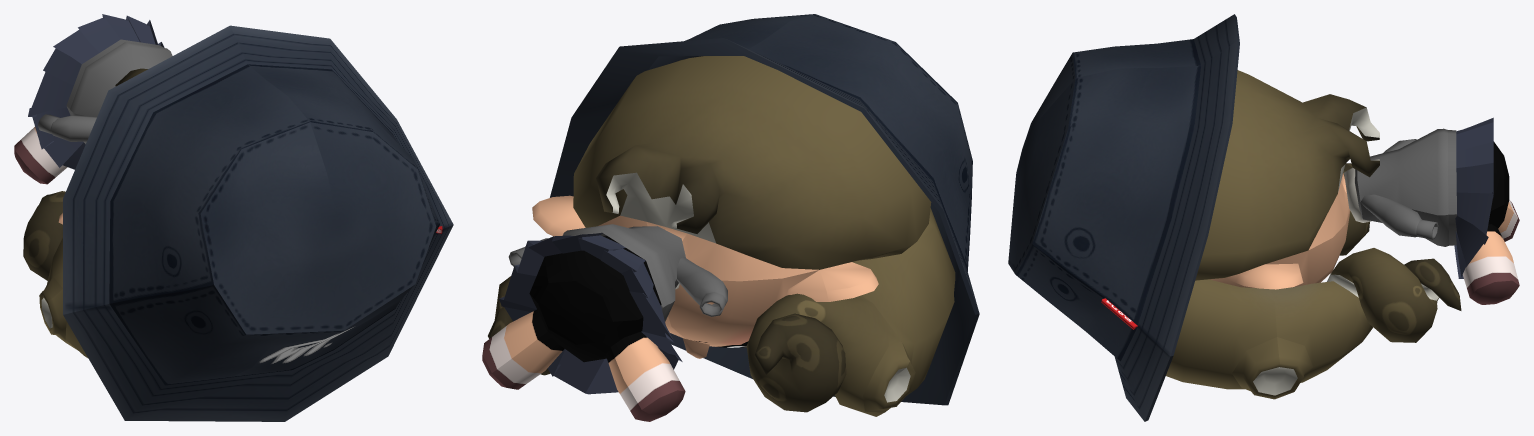
The model's file is lana.fbx.
3 views of the same model, side by side, from view 1: azimuth 30°, elevation 25°; view 2: azimuth 150°, elevation 25°; view 3: azimuth 270°, elevation 25° (orthographic). The views are drawn at different scales.
Visible parts, largest first — view 1: lana; view 2: lana; view 3: lana.
Part boxes in pixels (left/top/right/bottom): lana: left=14, top=14, right=453, bottom=421; lana: left=482, top=14, right=979, bottom=421; lana: left=1008, top=14, right=1519, bottom=421.
Bounding box in the file's own units: 1.09 × 0.9544 × 1.24.
Materials: 1 (1 with a texture image).
